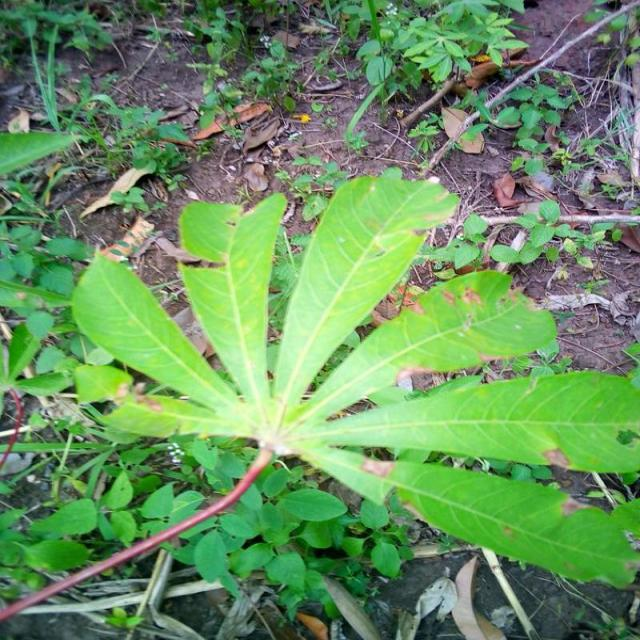cassava leaf: (69, 166, 639, 596), (274, 166, 462, 408)
